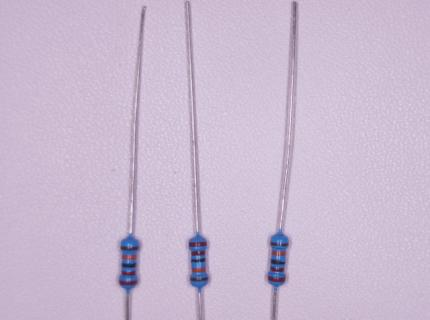Black band: (271, 259, 286, 265), (122, 264, 137, 268), (191, 259, 206, 262)
Brown band: (190, 278, 208, 282), (271, 242, 289, 246), (121, 247, 138, 250)
Orange band: (272, 250, 286, 256), (123, 255, 137, 259), (192, 268, 206, 272)
Red band: (269, 276, 286, 282), (120, 280, 137, 284), (190, 242, 207, 246), (271, 266, 284, 271), (122, 272, 136, 276), (192, 251, 206, 255)
